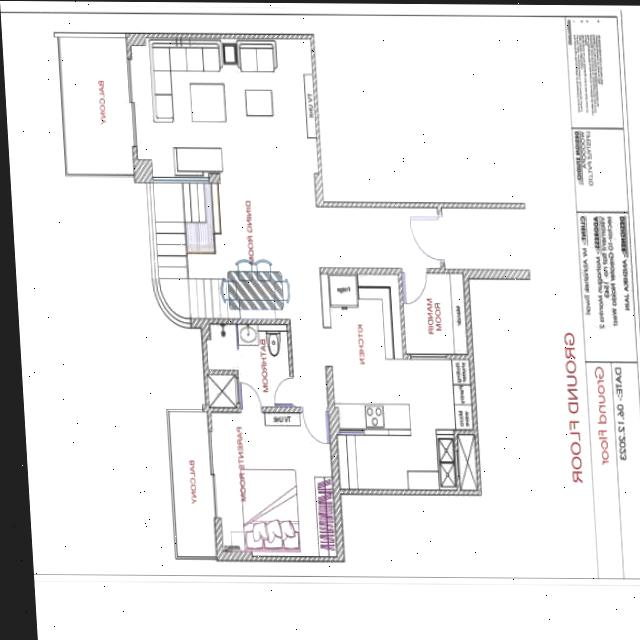room: (153, 168, 328, 415), (325, 264, 478, 496), (131, 31, 317, 178), (210, 404, 337, 562), (59, 31, 134, 179), (205, 319, 291, 412), (168, 408, 216, 558), (401, 270, 467, 357)
